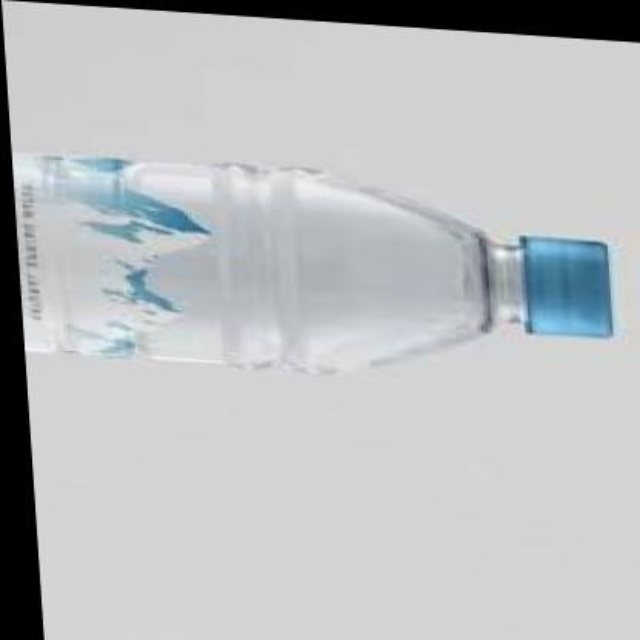trash: (15, 154, 489, 371)
